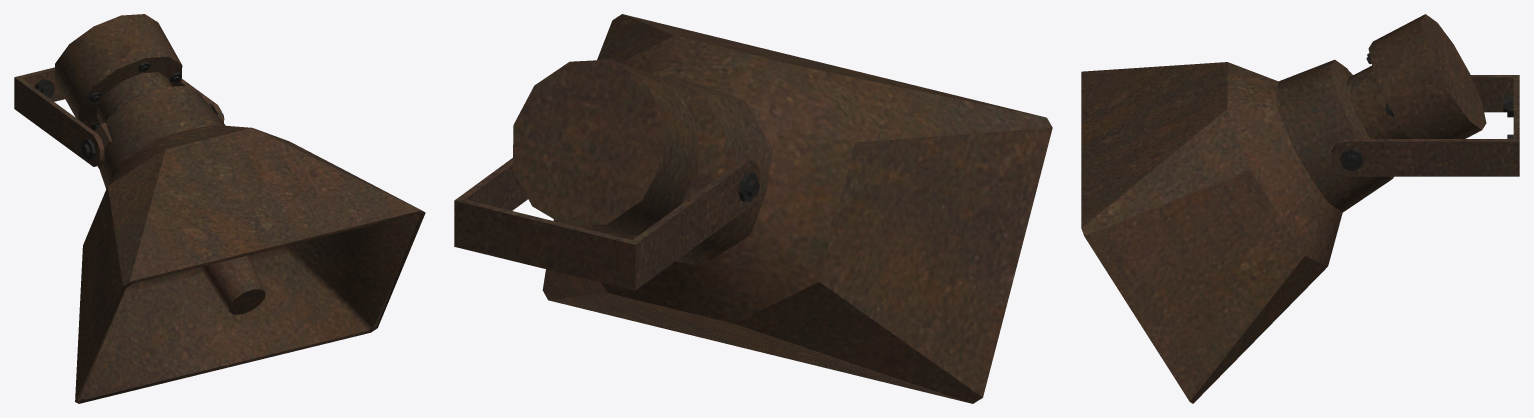
The model's file is speaker_mx_1_2.dae.
3 views of the same model, side by side, from view 1: azimuth 30°, elevation 25°; view 2: azimuth 150°, elevation 25°; view 3: azimuth 270°, elevation 25° (orthographic). The views are drawn at different scales.
Parts seen in each view (by area): view 1: speaker_mx_1_2; view 2: speaker_mx_1_2; view 3: speaker_mx_1_2.
Boxes of the visible parts, x1,y1,x2,y2 form: speaker_mx_1_2: (14, 14, 425, 403); speaker_mx_1_2: (454, 14, 1052, 403); speaker_mx_1_2: (1081, 14, 1519, 403).
Bounding box in the file's own units: 0.4947 × 0.564 × 0.4325.
Materials: 2 (2 with a texture image).
